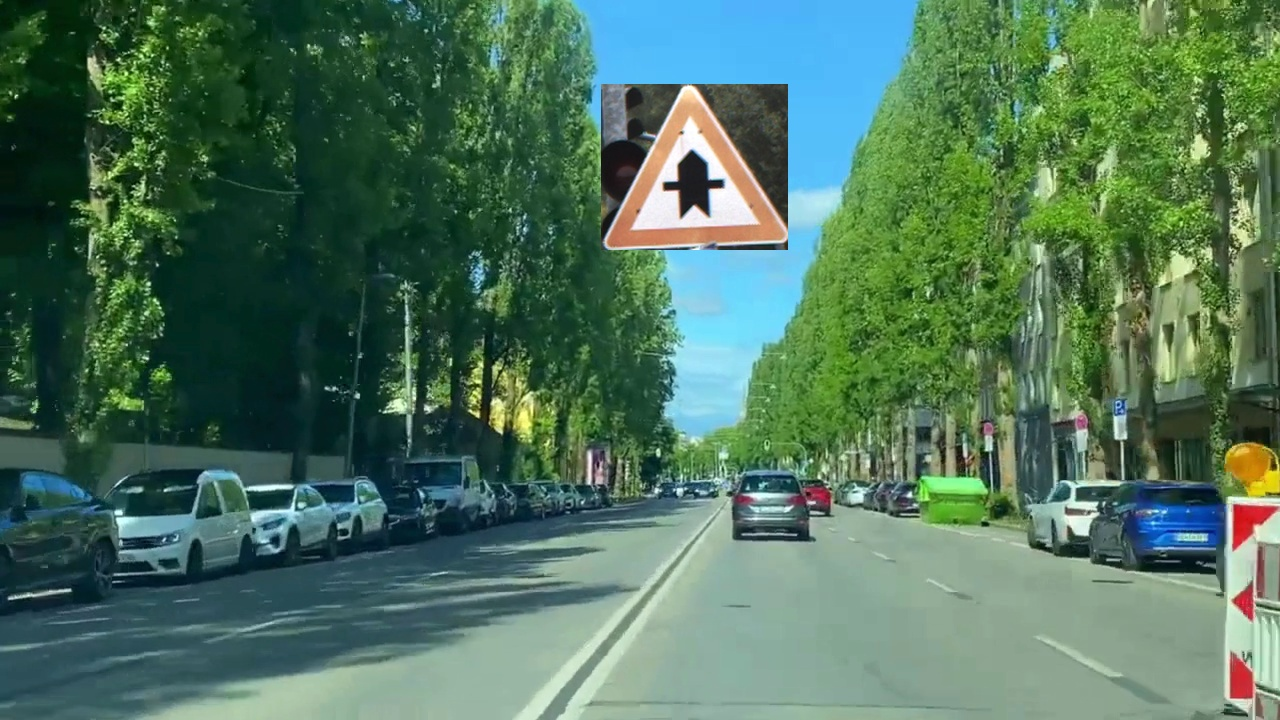Right-of-way: (601, 84, 788, 250)
